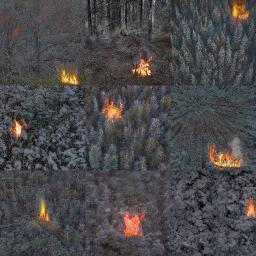Small fire: (48, 58, 92, 90), (29, 188, 62, 229), (93, 92, 132, 125), (2, 107, 31, 142), (127, 54, 161, 83), (224, 0, 255, 28)
